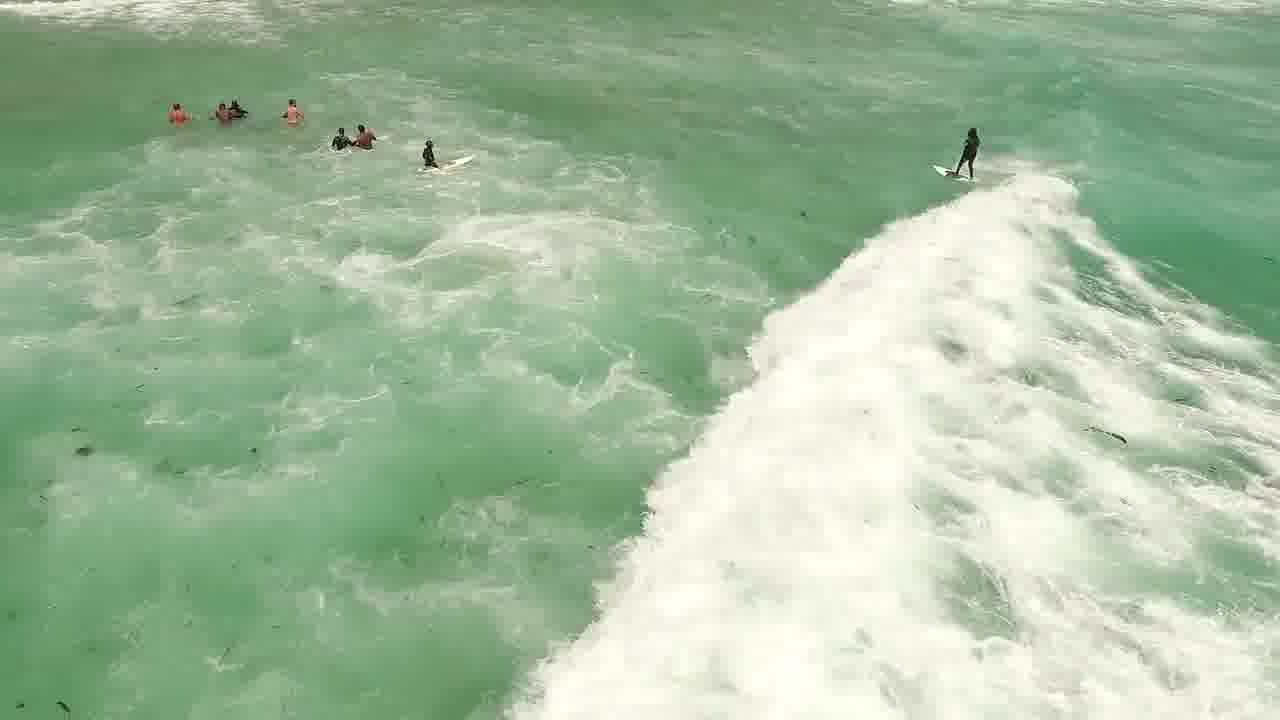human: (957, 116, 993, 193), (410, 125, 446, 176), (351, 105, 378, 165), (158, 89, 179, 144), (275, 82, 299, 127), (327, 119, 354, 157), (225, 78, 243, 124), (206, 90, 227, 120)
